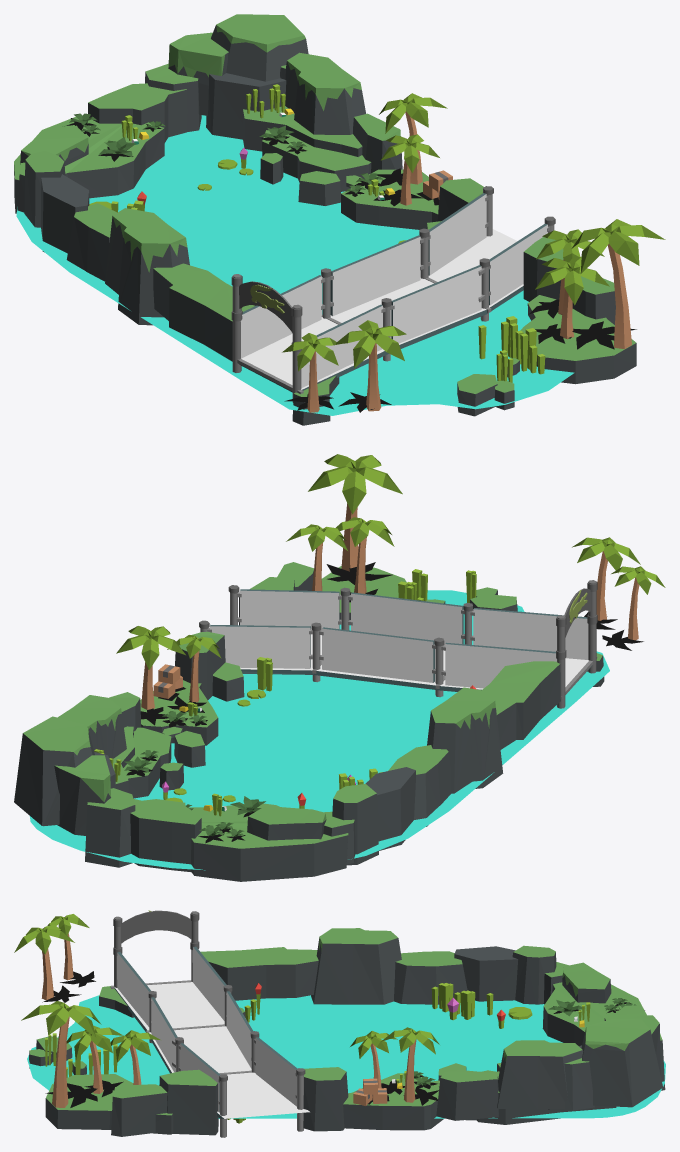
Rendered from xweilan_1005_5.FBX.
3 views of the same model, one above another, from view 1: azimuth 30°, elevation 25°; view 2: azimuth 150°, elevation 25°; view 3: azimuth 270°, elevation 25° (orthographic). The views are drawn at different scales.
Visible parts, largest first — view 1: xweilan_1005_5; view 2: xweilan_1005_5; view 3: xweilan_1005_5.
Part boxes in pixels (<box>): xweilan_1005_5: <box>14,14,665,425</box>; xweilan_1005_5: <box>14,454,665,881</box>; xweilan_1005_5: <box>14,910,665,1137</box>.
Bounding box in the file's own units: 4526 × 1957 × 8431.
